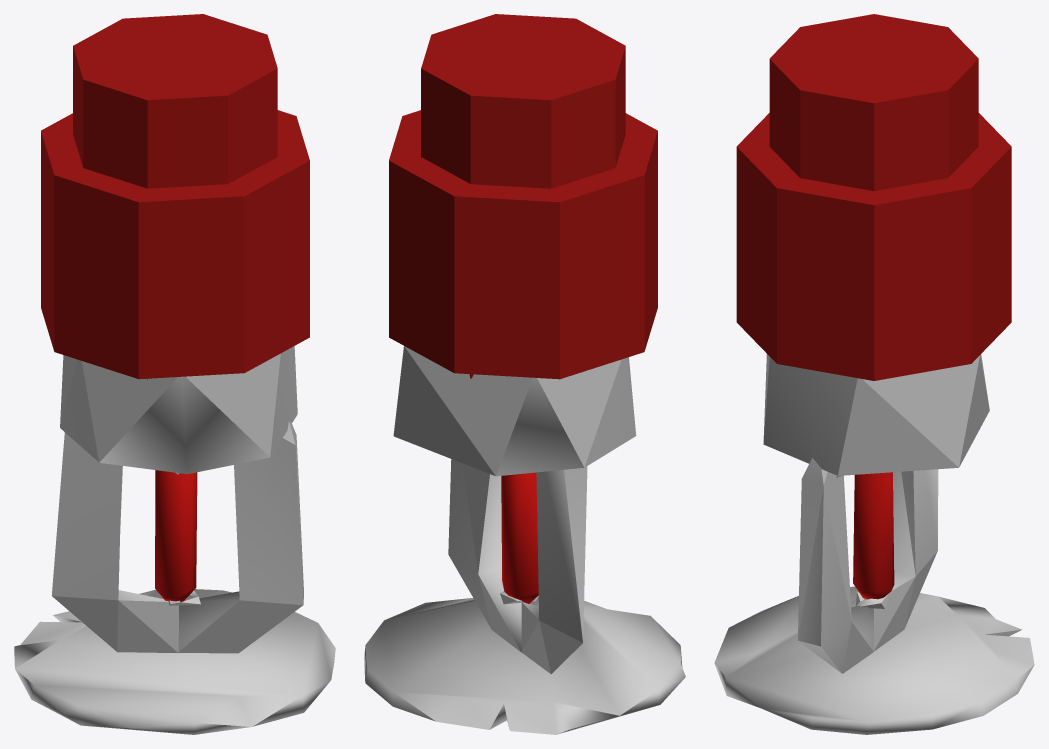
Rendered from SprinklerHeadLow.obj.
3 views of the same model, side by side, from view 1: azimuth 30°, elevation 25°; view 2: azimuth 150°, elevation 25°; view 3: azimuth 270°, elevation 25° (orthographic).
Parts seen in each view (by area): view 1: Object_6; view 2: Object_6; view 3: Object_6.
Part boxes in pixels (left/top/right/bottom): Object_6: left=14, top=14, right=335, bottom=734; Object_6: left=364, top=14, right=685, bottom=734; Object_6: left=714, top=14, right=1034, bottom=734.
Size of the model in its own units: 0.0332 by 0.07 by 0.0329.
